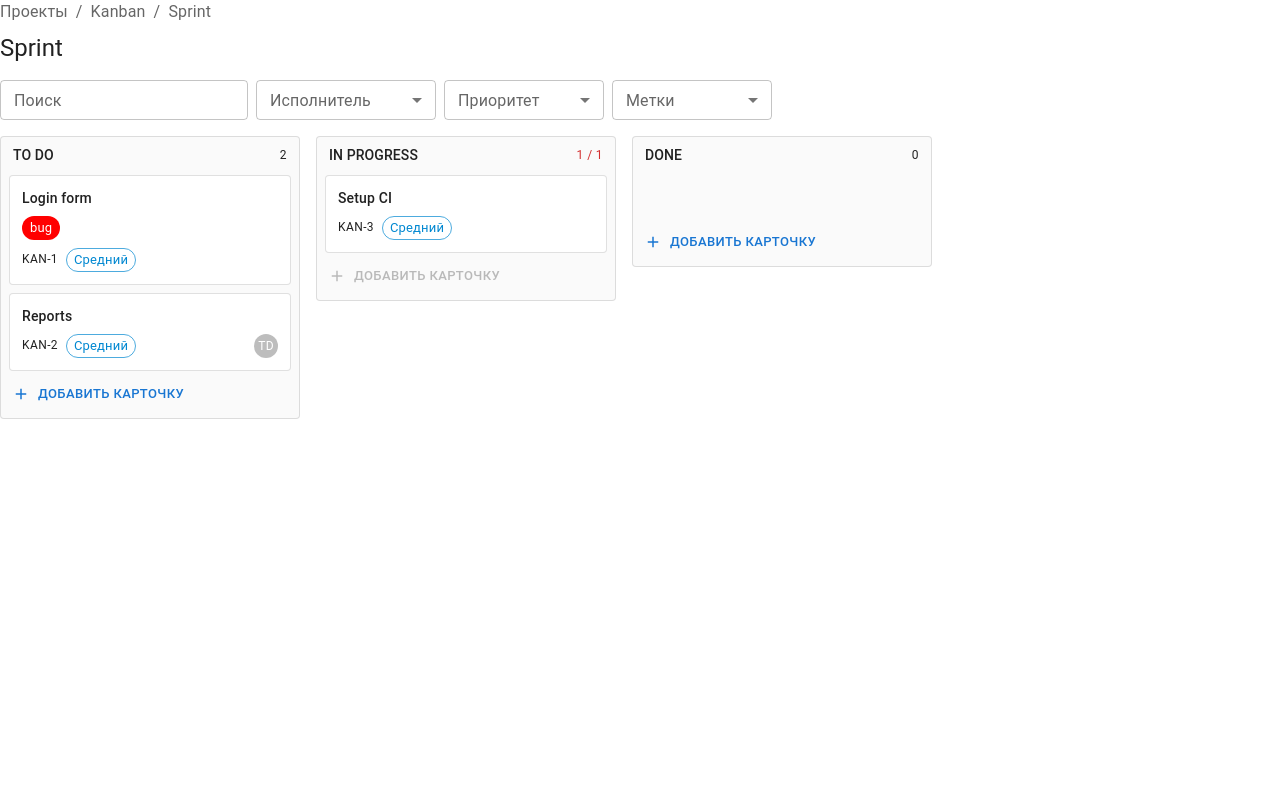
Scenario: CardDialog › чужой комментарий нельзя изменить, а разработчик не может его удалить
The width and height of the screenshot is (1280, 800).
Click the button "Login form bug KAN-1 Средний": [57, 198] box [9,175,291,285]
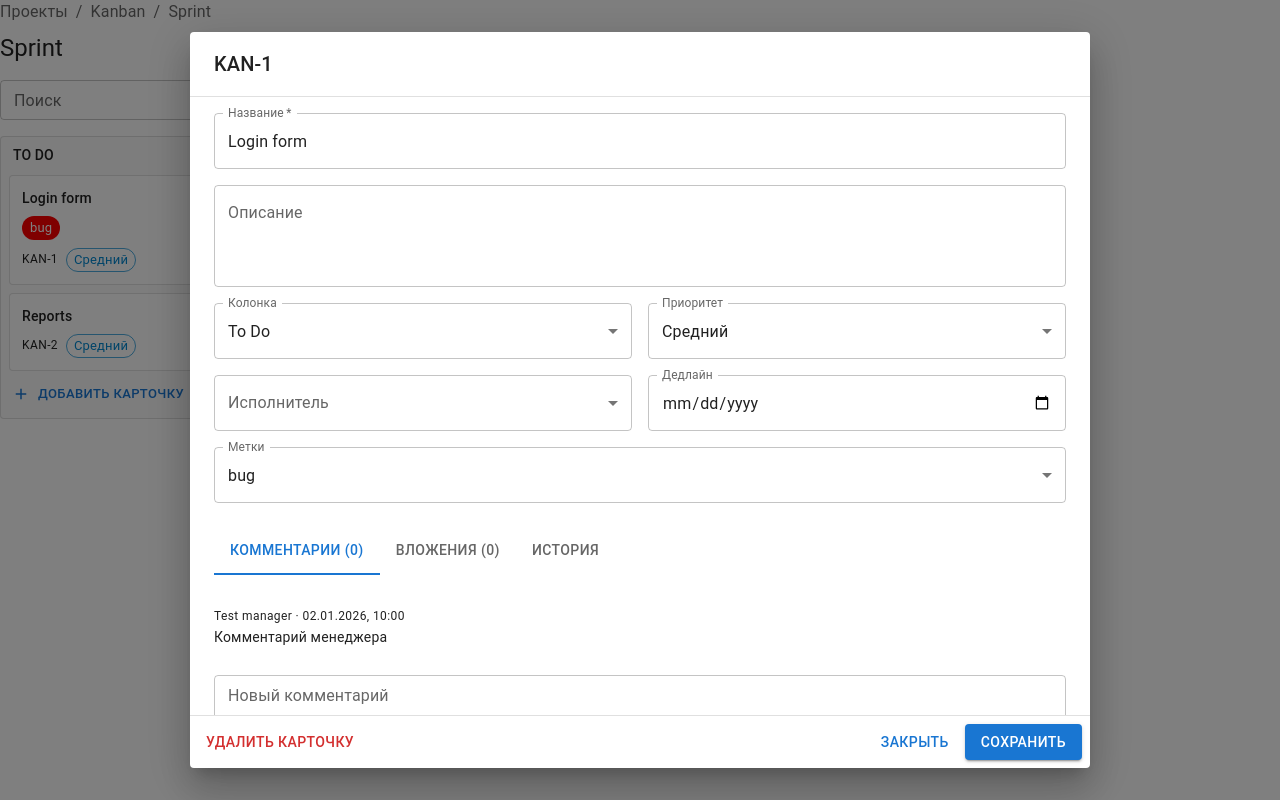
expect the text "Комментарий менеджера" is shown: met, box [214,629,387,645]
